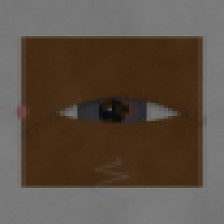foreign_body_visible: (101, 115, 118, 129)
